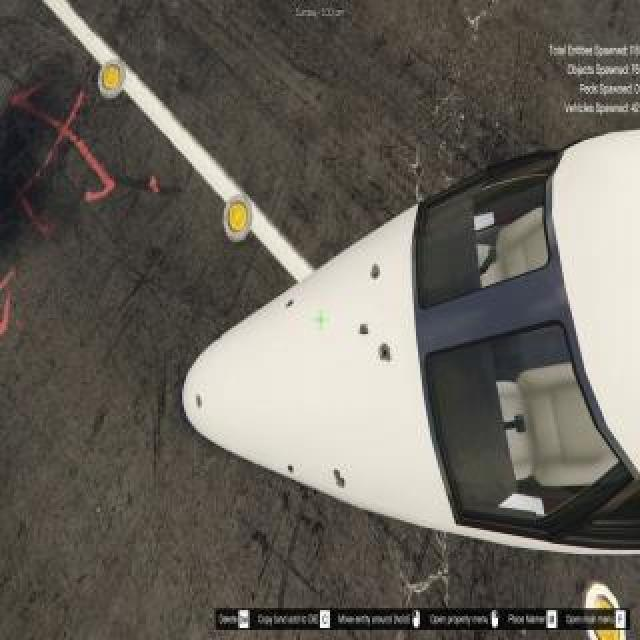crack: (366, 264, 384, 282), (379, 343, 395, 363), (335, 468, 347, 492), (287, 461, 297, 479), (196, 394, 204, 412), (358, 327, 372, 337), (287, 299, 297, 313)
